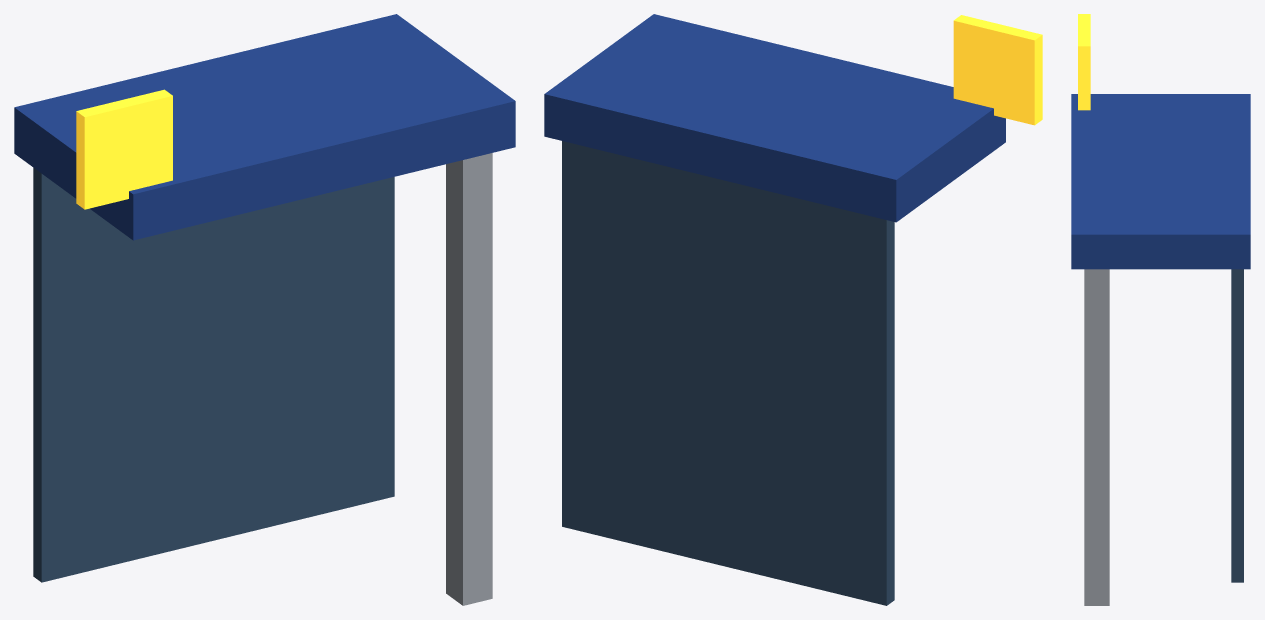
The model's file is bus_stop.glb.
3 views of the same model, side by side, from view 1: azimuth 30°, elevation 25°; view 2: azimuth 150°, elevation 25°; view 3: azimuth 270°, elevation 25° (orthographic). The views are drawn at different scales.
Visible parts, largest first — view 1: Back, Roof, Post, Sign; view 2: Back, Roof, Sign; view 3: Roof, Post, Back, Sign.
Boxes of the visible parts, bbox=[...] form: Back: bbox=[33, 168, 394, 582]; Roof: bbox=[14, 14, 515, 240]; Post: bbox=[446, 153, 492, 605]; Sign: bbox=[76, 89, 172, 209]; Back: bbox=[562, 141, 894, 605]; Roof: bbox=[544, 14, 1005, 222]; Sign: bbox=[953, 15, 1042, 125]; Roof: bbox=[1071, 94, 1250, 269]; Post: bbox=[1084, 269, 1109, 605]; Back: bbox=[1231, 269, 1243, 582]; Sign: bbox=[1078, 14, 1090, 110].
Size of the model in its own units: 0.29 by 0.38 by 0.14.
